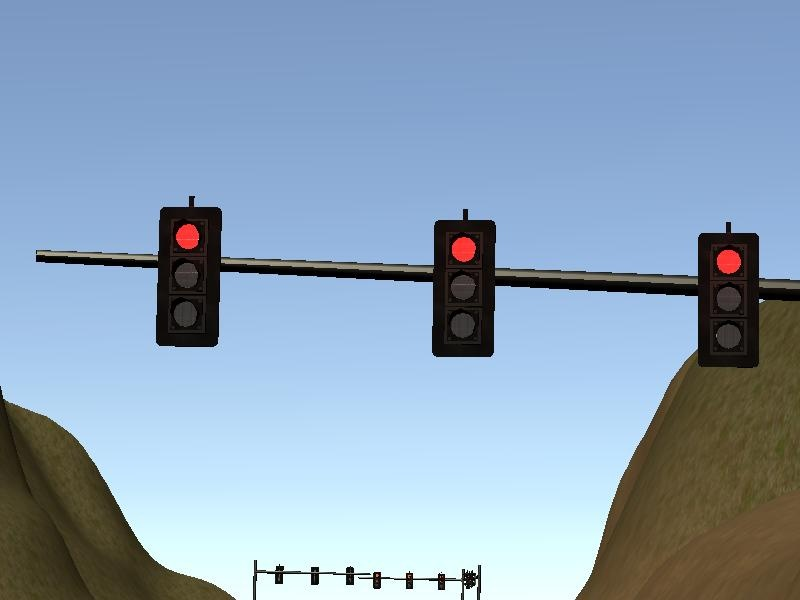red: (433, 221, 496, 359), (160, 208, 221, 348), (697, 233, 759, 369), (373, 572, 382, 590), (406, 572, 414, 591)
